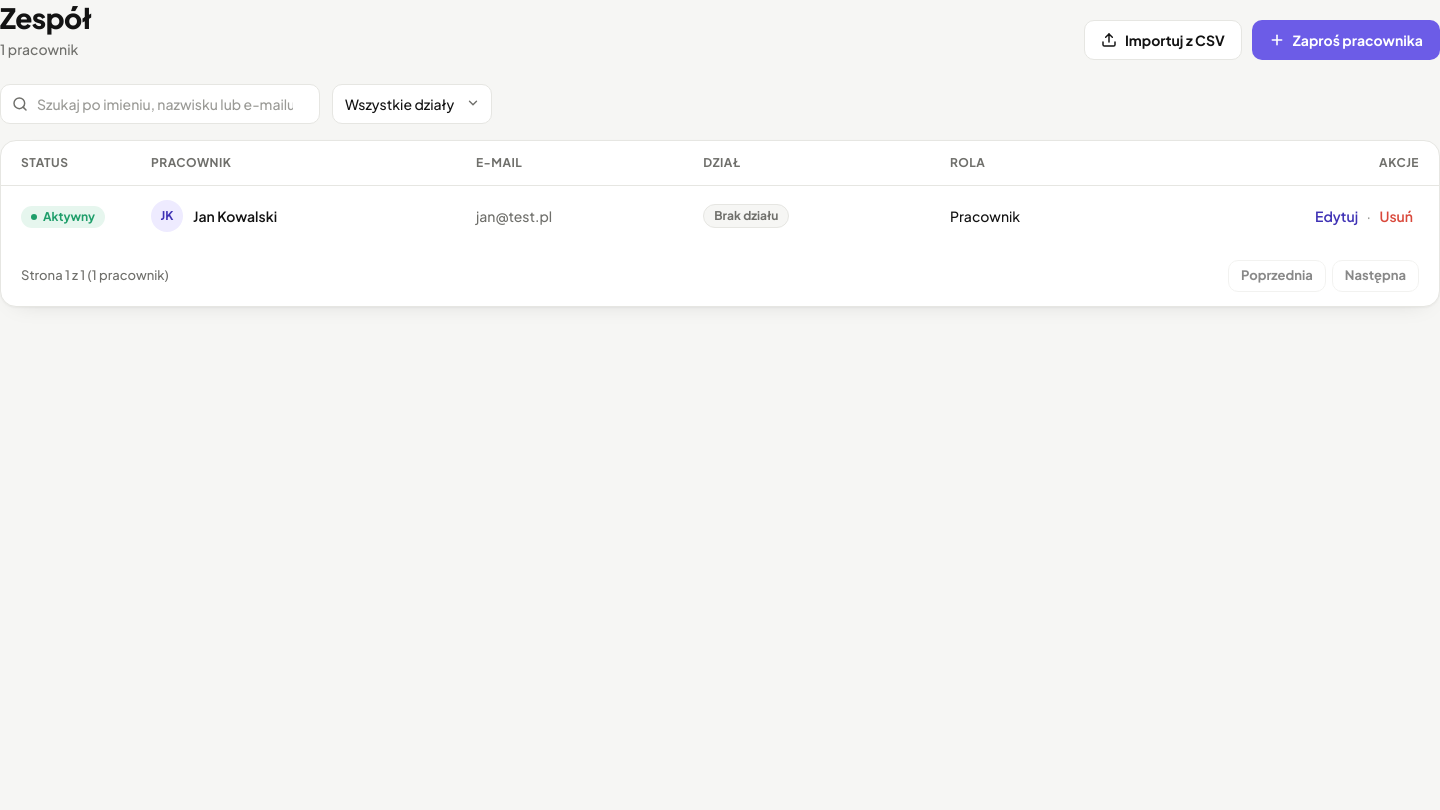
Test case: UsersPageClient › otwiera modal zapraszania po kliknięciu "Zaproś pracownika"
Expected: the text "jan@test.pl" is shown, [456,186,683,246]
What coordinates should you click on to do the following:
click the button "Zaproś pracownika"
I would click on:
 (1346, 40)
Its box is [1252,20,1439,60].
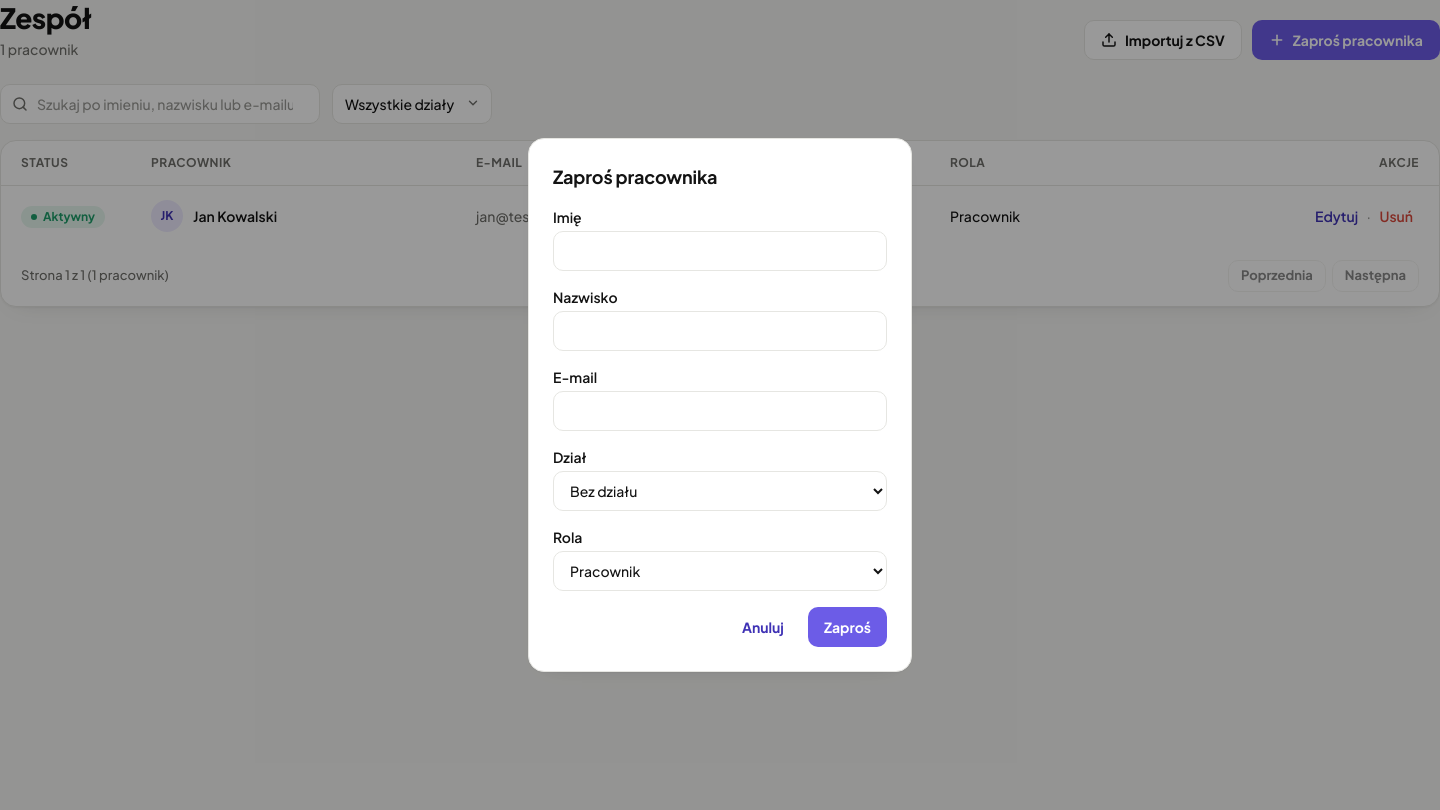
Expected: the dialog "Zaproś pracownika" is shown
